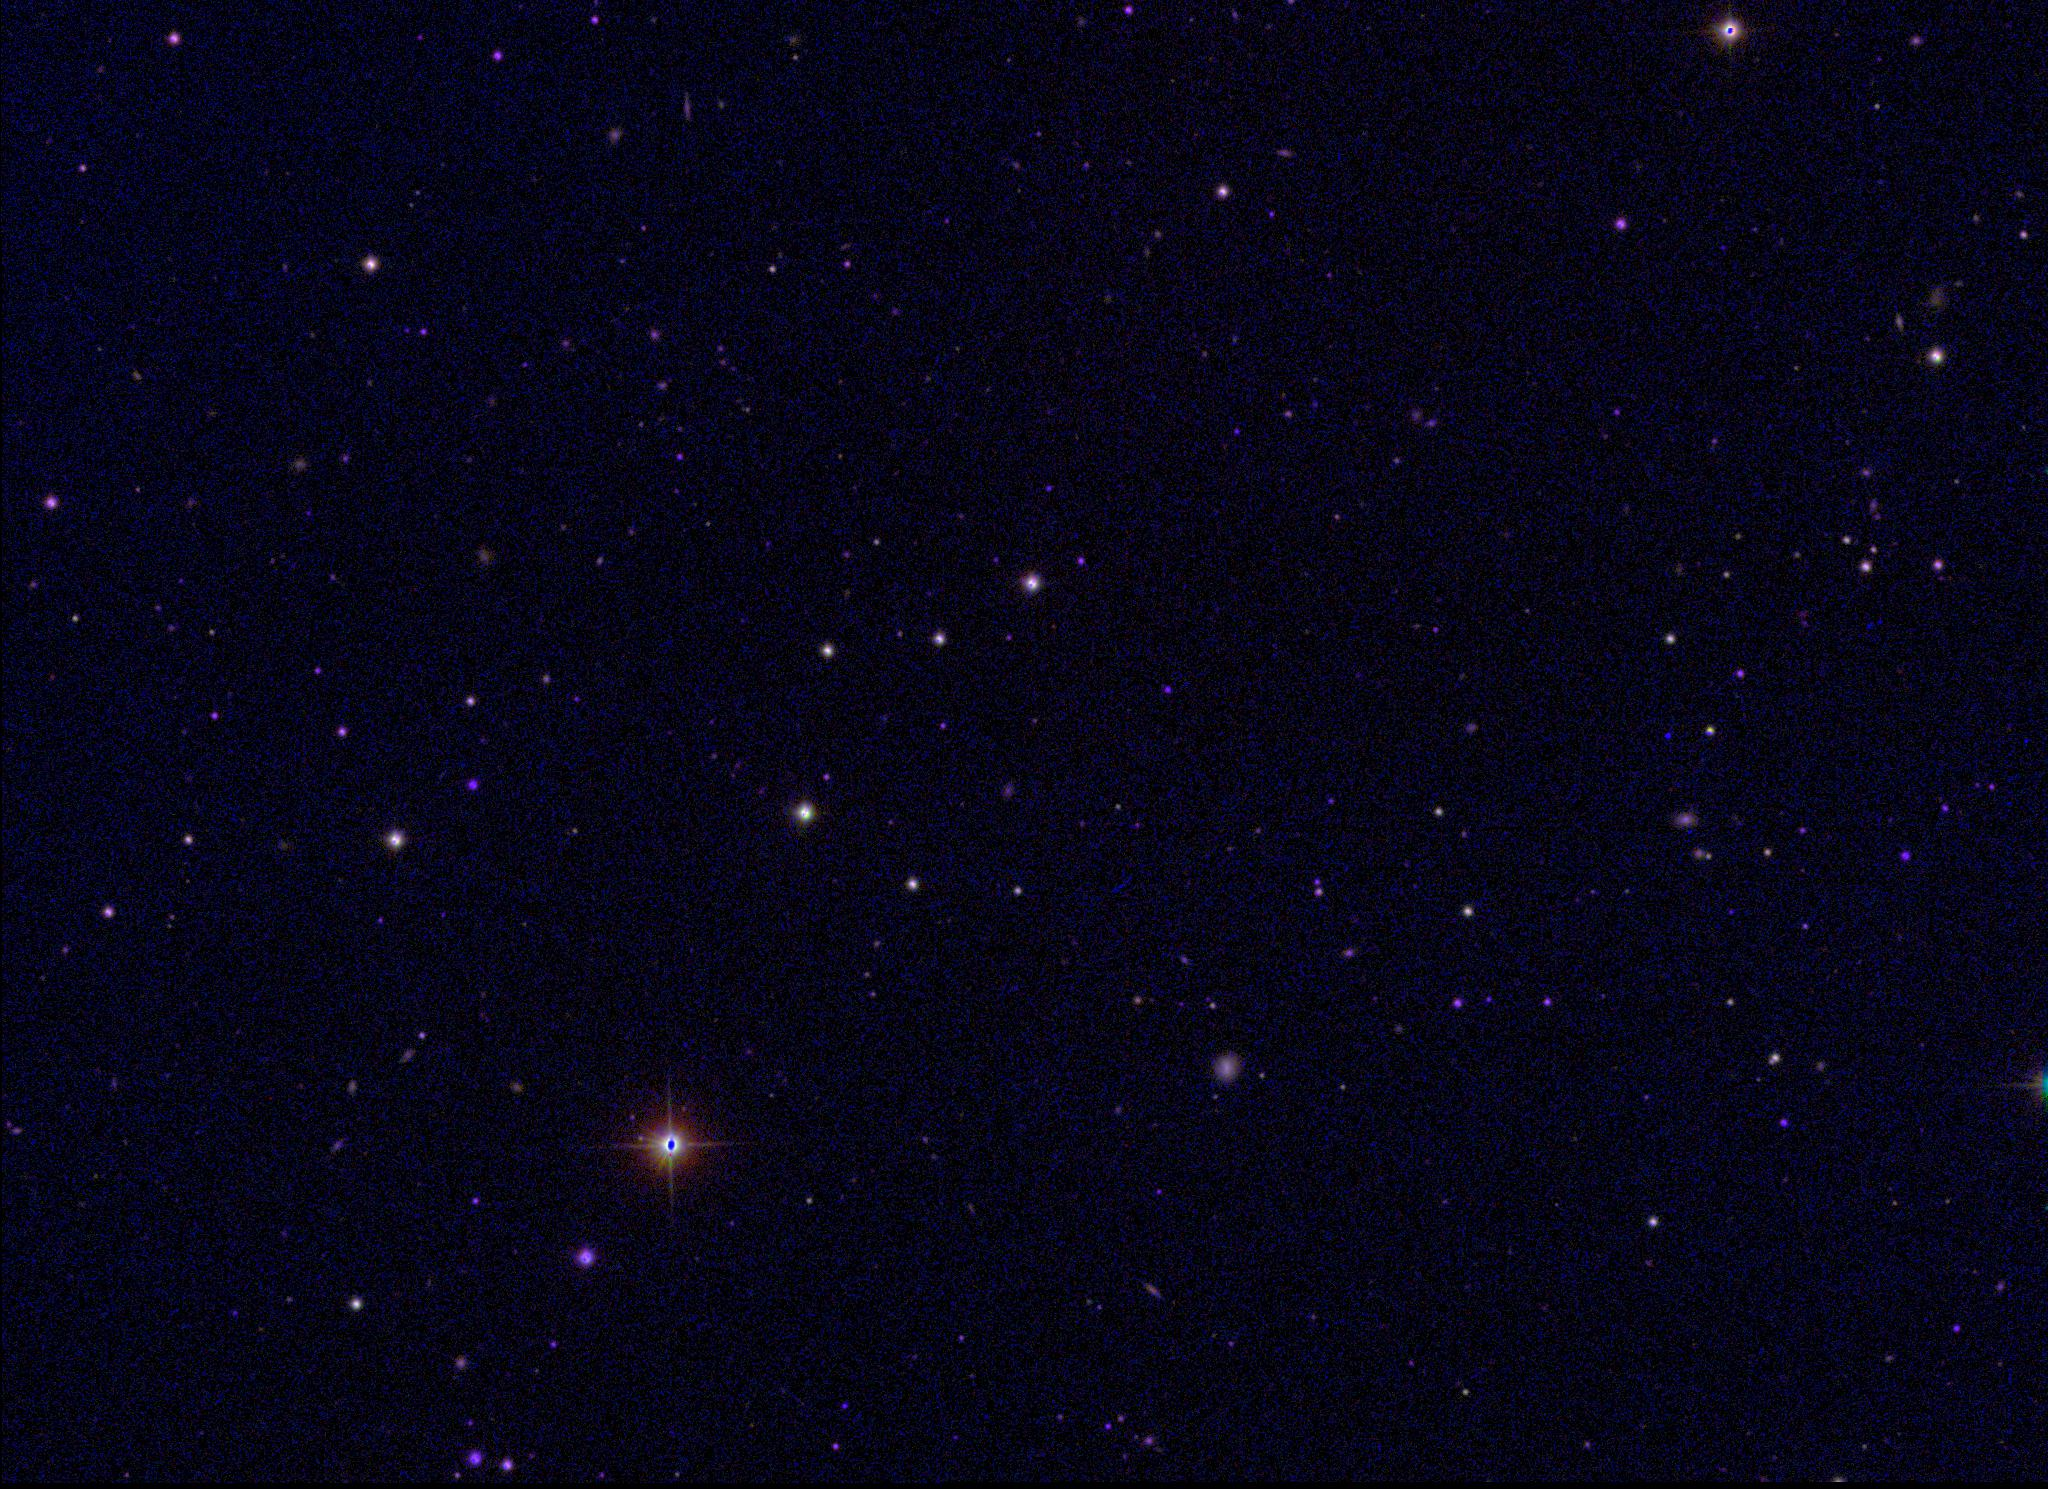L: (1662, 729, 1674, 743)
